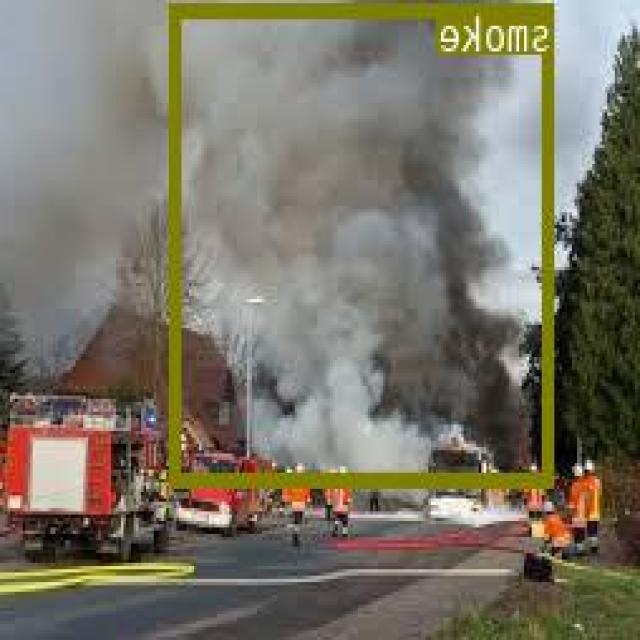smoke: (173, 1, 556, 485)
